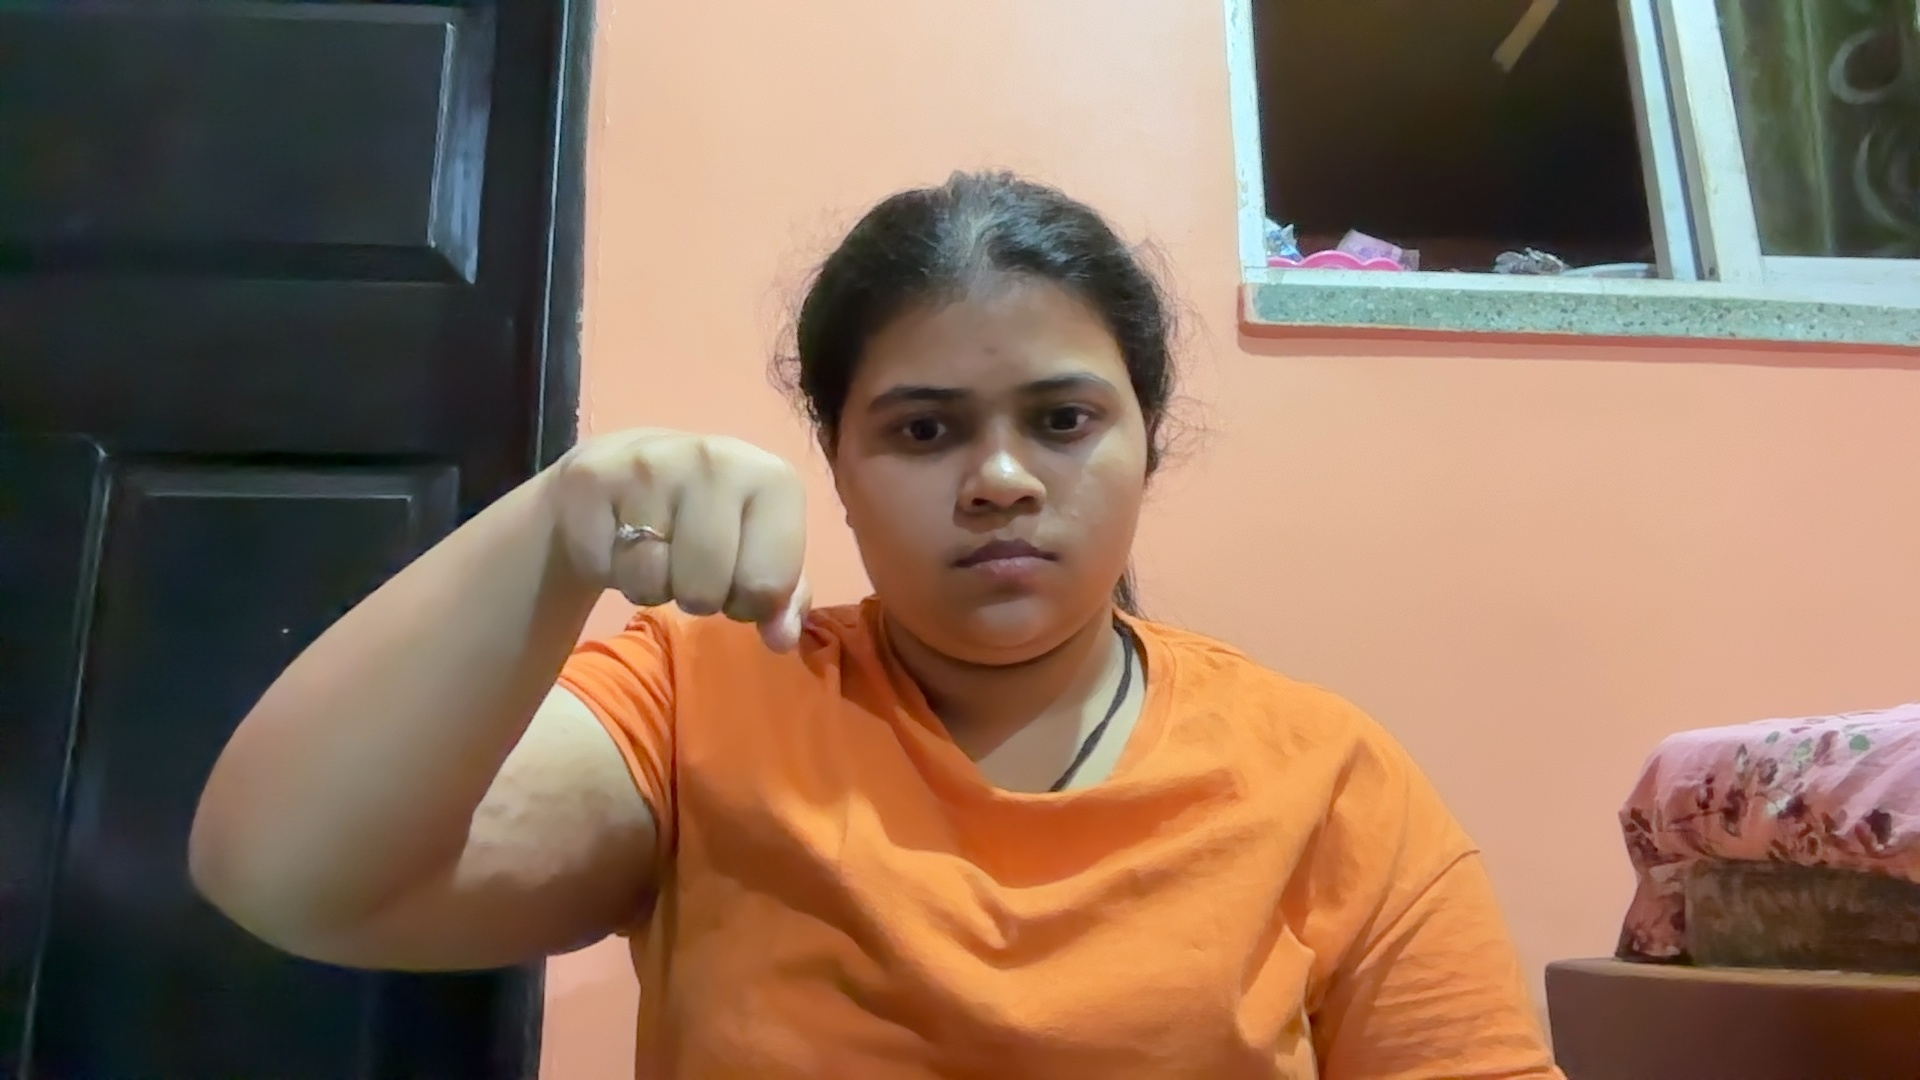yes: (520, 393, 832, 671)
